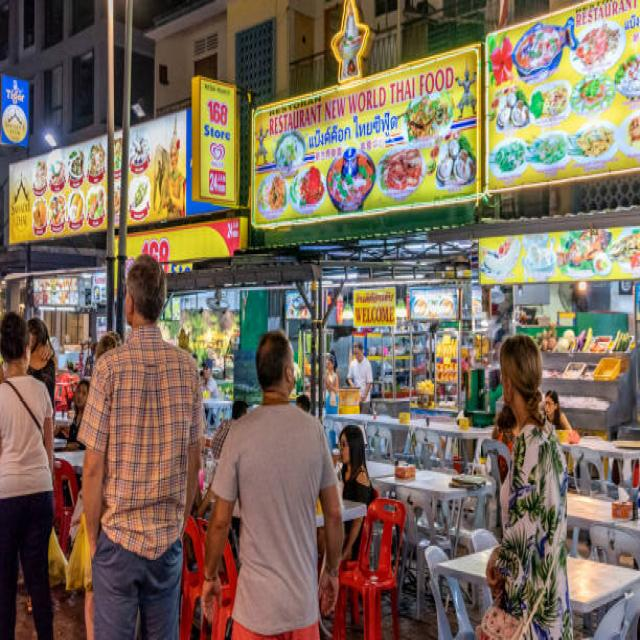Emperan: (273, 23, 488, 603), (0, 81, 243, 500), (481, 0, 640, 640)
